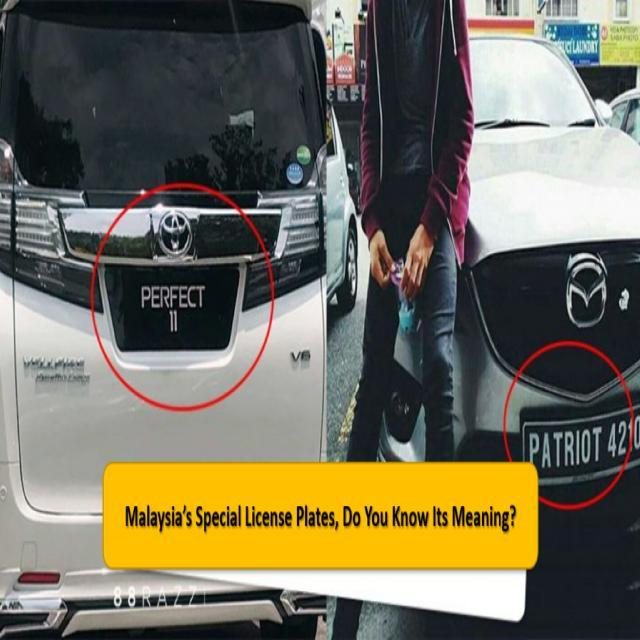car-plate: (105, 260, 239, 356), (522, 398, 640, 500)
